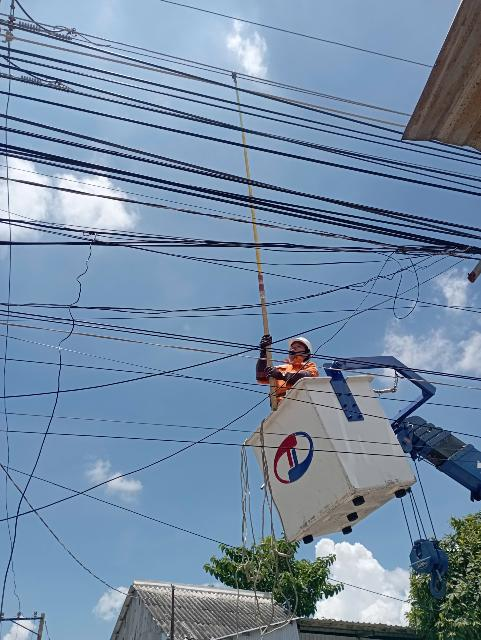gloves: (245, 328, 274, 387), (264, 364, 317, 388)
helmet: (287, 333, 317, 358)
